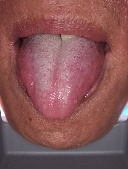tongue: (15, 38, 105, 121)
